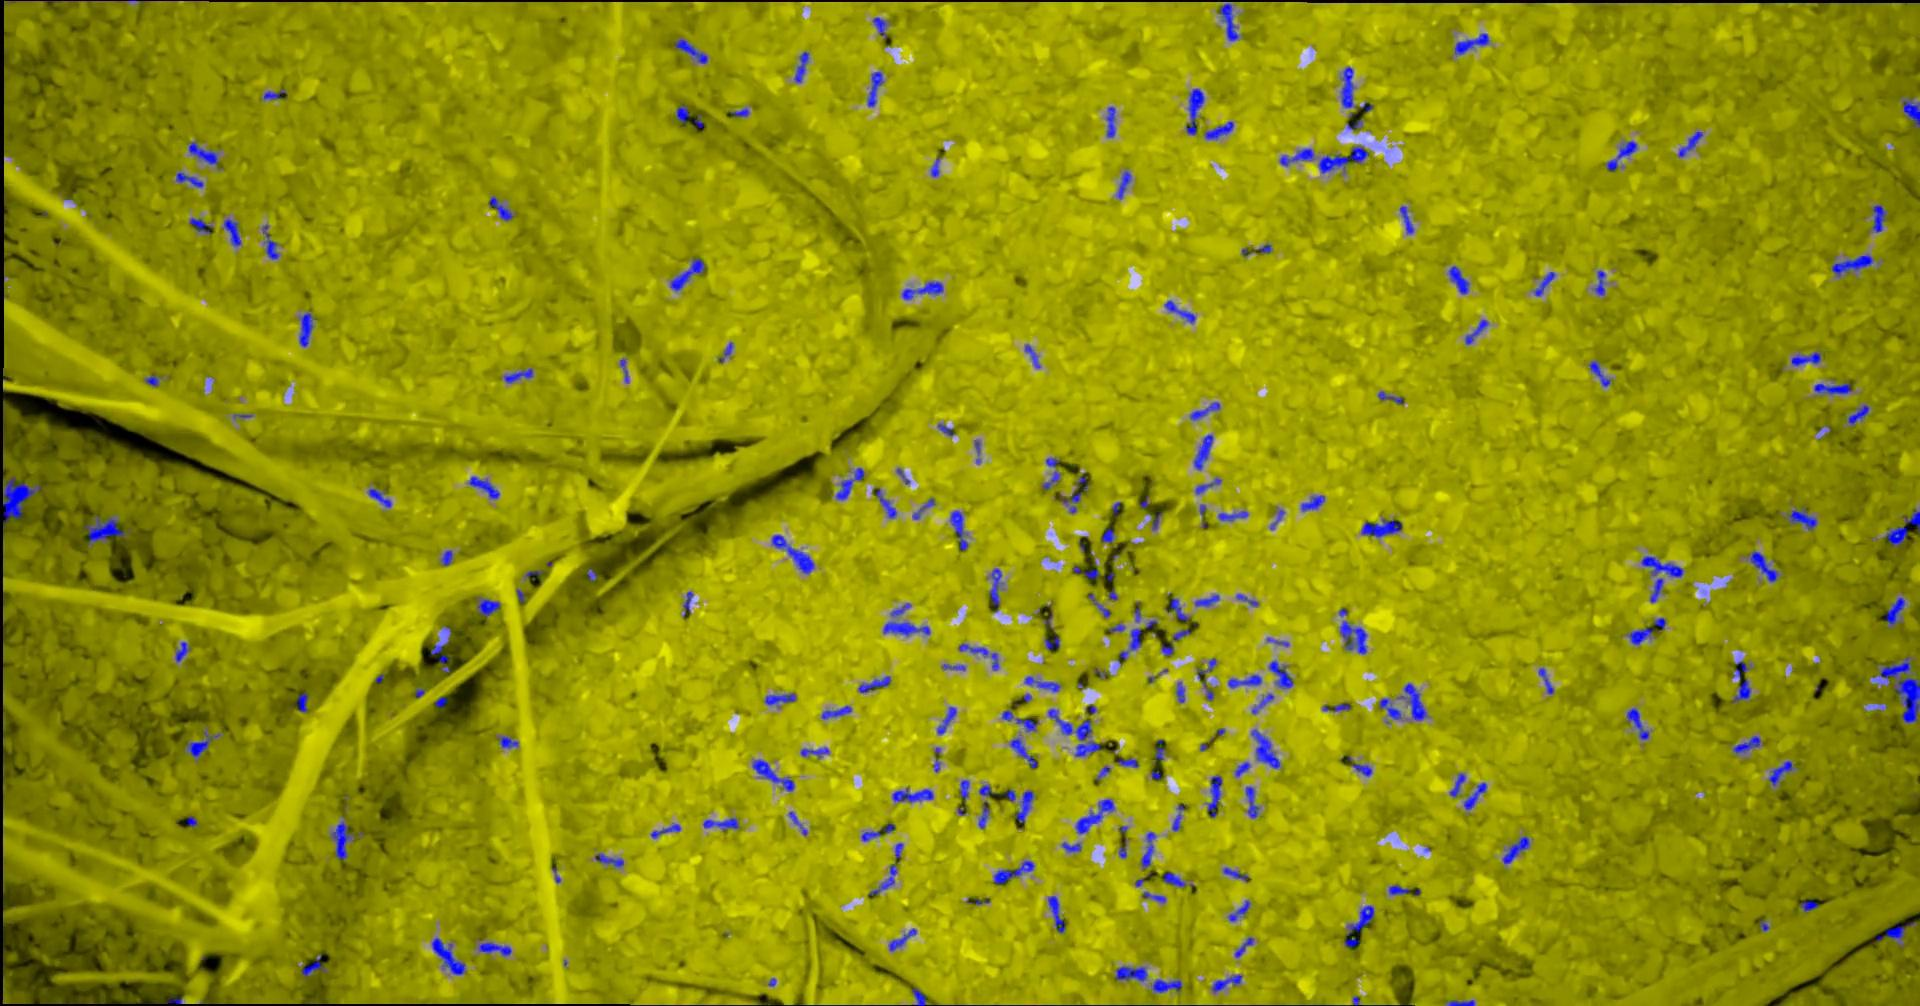ant: (1049, 708, 1102, 756), (4, 475, 44, 537), (1643, 555, 1685, 602), (773, 533, 815, 573), (1077, 799, 1116, 833), (754, 760, 796, 791), (1321, 145, 1370, 171), (1886, 508, 1920, 546), (86, 516, 132, 544), (1346, 904, 1375, 948), (670, 257, 707, 290), (433, 937, 466, 974), (333, 821, 364, 859), (1252, 729, 1281, 768), (1398, 683, 1429, 720), (960, 643, 999, 669), (430, 626, 453, 672), (1062, 475, 1090, 512), (996, 860, 1036, 884), (187, 730, 222, 757), (1608, 140, 1638, 170), (870, 862, 898, 895), (1832, 254, 1874, 276), (837, 467, 865, 499), (1011, 737, 1039, 768), (1752, 550, 1780, 580), (676, 38, 709, 64), (1342, 621, 1368, 654), (1187, 88, 1205, 133), (1163, 627, 1191, 655), (1503, 835, 1531, 862), (1363, 518, 1403, 537), (903, 281, 945, 298), (1166, 300, 1197, 323), (1195, 434, 1215, 470), (1457, 33, 1490, 55), (1270, 661, 1295, 688), (1770, 760, 1798, 785), (1220, 3, 1239, 39), (470, 476, 502, 498), (1628, 708, 1650, 739), (190, 141, 220, 164), (1789, 507, 1818, 530), (1049, 895, 1067, 932), (952, 511, 969, 550), (877, 486, 898, 518), (885, 621, 931, 635), (890, 929, 918, 951), (1342, 66, 1357, 107), (1886, 920, 1916, 940), (1680, 131, 1704, 156), (490, 196, 516, 220), (1465, 319, 1490, 344), (1465, 782, 1488, 809), (990, 568, 1004, 611), (263, 224, 279, 259), (1209, 775, 1223, 817), (1450, 265, 1470, 293), (894, 788, 935, 801), (869, 71, 885, 105), (1281, 149, 1316, 165), (860, 674, 891, 692), (1017, 790, 1035, 822), (1090, 593, 1112, 617), (303, 954, 328, 977), (1590, 361, 1611, 386), (863, 823, 897, 840), (1191, 401, 1222, 419), (1026, 676, 1062, 691), (1887, 597, 1906, 625), (938, 706, 957, 734), (1211, 974, 1243, 991), (1206, 121, 1236, 138), (703, 817, 740, 831), (1143, 831, 1157, 868), (1903, 97, 1920, 127), (300, 312, 315, 345), (1116, 965, 1149, 981), (225, 218, 243, 246), (1735, 735, 1763, 753), (914, 497, 936, 520), (1168, 598, 1191, 620), (1535, 271, 1556, 295), (1380, 699, 1403, 719), (651, 823, 682, 838), (1164, 871, 1195, 887), (477, 597, 502, 616), (790, 810, 809, 835), (505, 368, 535, 384), (796, 51, 810, 83), (1628, 627, 1655, 644), (1849, 404, 1870, 424), (1815, 382, 1853, 394), (370, 488, 392, 507), (1229, 674, 1263, 687), (959, 780, 971, 814), (1735, 678, 1752, 702), (177, 171, 204, 187), (1873, 205, 1888, 232), (1247, 786, 1261, 817), (480, 942, 513, 955), (1230, 901, 1251, 921), (1253, 694, 1275, 713), (1793, 351, 1822, 365), (596, 854, 625, 868), (1199, 657, 1217, 680), (1540, 667, 1556, 694), (766, 694, 797, 706), (823, 705, 853, 718), (1236, 936, 1255, 956), (1401, 206, 1415, 232), (1074, 565, 1101, 579), (1119, 170, 1131, 199), (1154, 979, 1183, 992), (190, 217, 215, 232), (1197, 478, 1222, 493), (1302, 495, 1326, 511), (1451, 772, 1467, 796), (1224, 868, 1250, 882), (1026, 344, 1041, 367), (1735, 661, 1752, 680), (1173, 803, 1186, 829), (1243, 244, 1272, 255), (803, 746, 830, 757), (1044, 471, 1062, 489), (874, 17, 888, 38), (1379, 391, 1404, 403), (1196, 594, 1222, 606), (678, 104, 692, 124), (1352, 762, 1373, 776), (980, 800, 990, 828), (1109, 105, 1117, 137), (1596, 271, 1608, 295), (1143, 890, 1167, 902), (1018, 718, 1040, 730), (1219, 511, 1250, 520), (913, 987, 928, 1005), (177, 641, 190, 661), (1131, 627, 1143, 650), (891, 602, 912, 615), (1156, 739, 1166, 763), (265, 89, 288, 99), (500, 735, 521, 747), (1236, 761, 1251, 776), (1119, 757, 1140, 767), (298, 692, 310, 711), (1046, 635, 1062, 649), (1063, 842, 1083, 852), (1390, 884, 1411, 894), (1103, 527, 1116, 542), (442, 550, 455, 565), (980, 784, 996, 796), (1801, 901, 1820, 911), (1177, 681, 1186, 702), (1448, 998, 1476, 1005), (932, 158, 941, 177), (1655, 617, 1667, 630), (147, 373, 160, 385)
